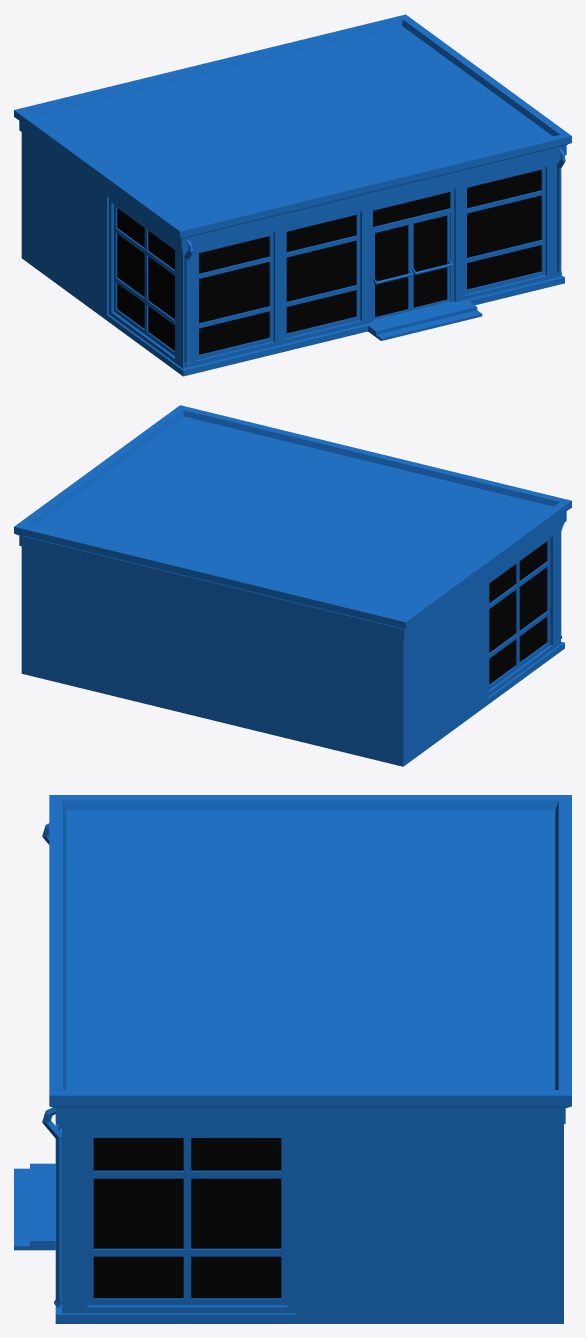
Rendered from SM_shop.fbx.
The picture shows the model from 3 angles, top to bottom: view 1: azimuth 30°, elevation 25°; view 2: azimuth 150°, elevation 25°; view 3: azimuth 270°, elevation 25°; orthographic projection. The views are drawn at different scales.
Visible parts, largest first — view 1: Cylinder_3, shop, Cube_3, Cube_4; view 2: Cylinder_3, shop; view 3: Cylinder_3, shop.
Part boxes in pixels (box(x1,y1,x2,y2)): Cylinder_3: box(14, 14, 571, 366); shop: box(21, 132, 564, 376); Cube_3: box(373, 223, 413, 319); Cube_4: box(411, 213, 452, 310); Cylinder_3: box(14, 405, 571, 639); shop: box(21, 523, 564, 766); Cylinder_3: box(42, 795, 571, 1307); shop: box(14, 1124, 563, 1323).
Bounding box in the file's own units: 1026 × 369 × 805.
